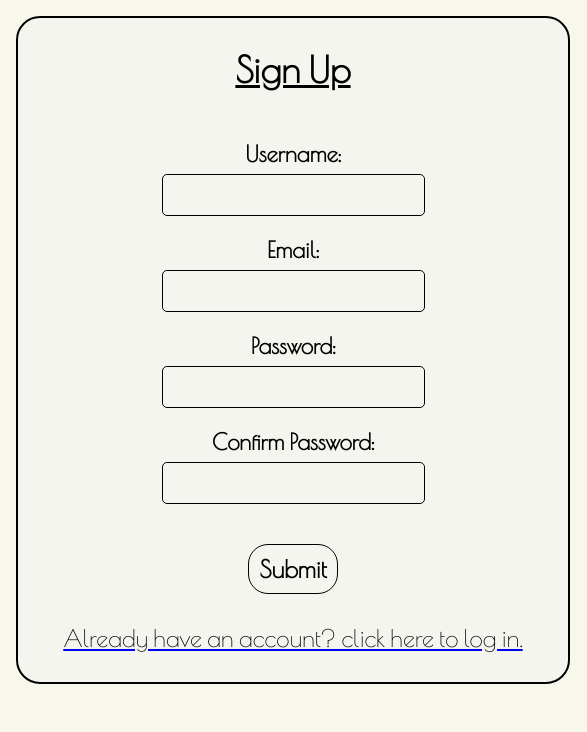
Sign Up › normal errors › shows error when email is left blank
Type "username" into the field labelled "Username:" at (293, 195), box [162,174,424,216]
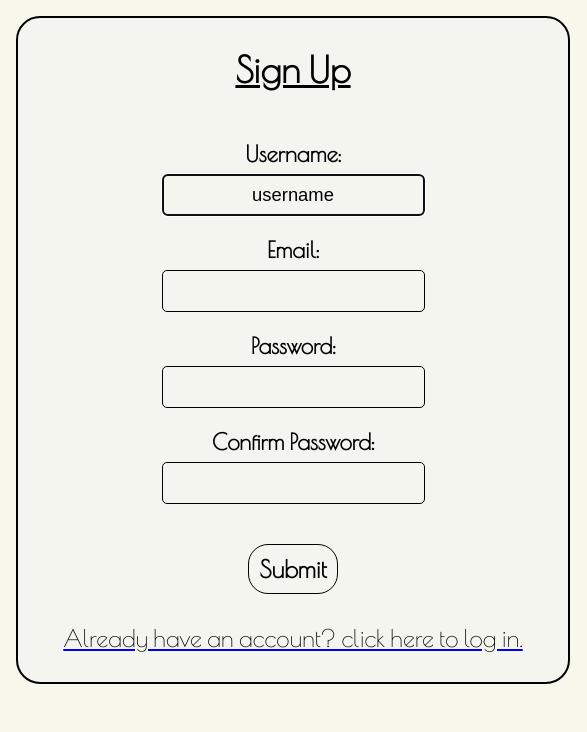
Click the button "Submit" at (293, 569), box [248,544,338,594]
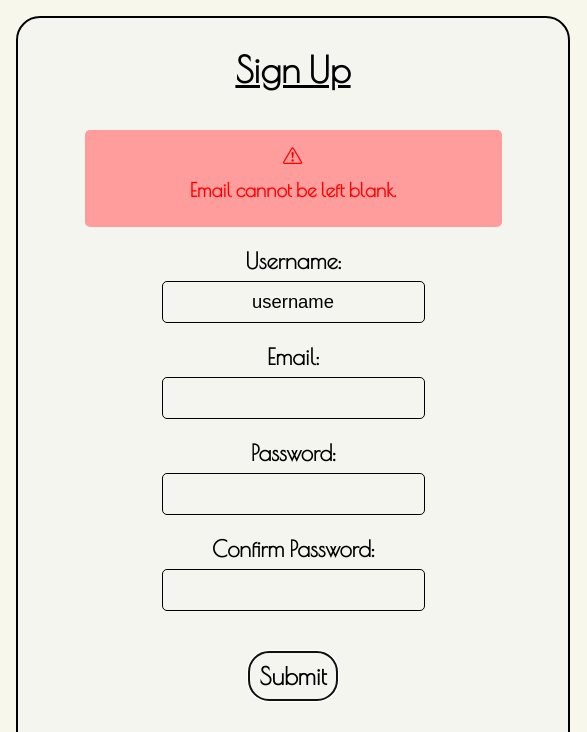
Check: the text "Email cannot be left blank." is shown, box [190,179,396,201]
